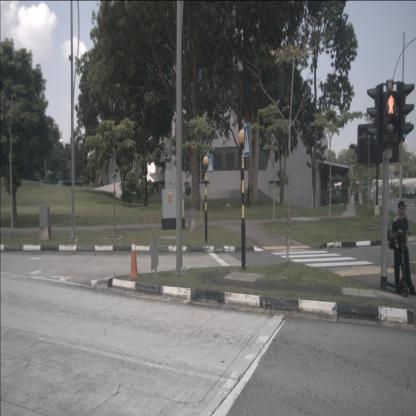human-pedestrian-adult: (388, 201, 416, 296)
movable_object-trafficcone: (128, 237, 140, 279)
vehicle-bus-rigid: (57, 180, 84, 197)
